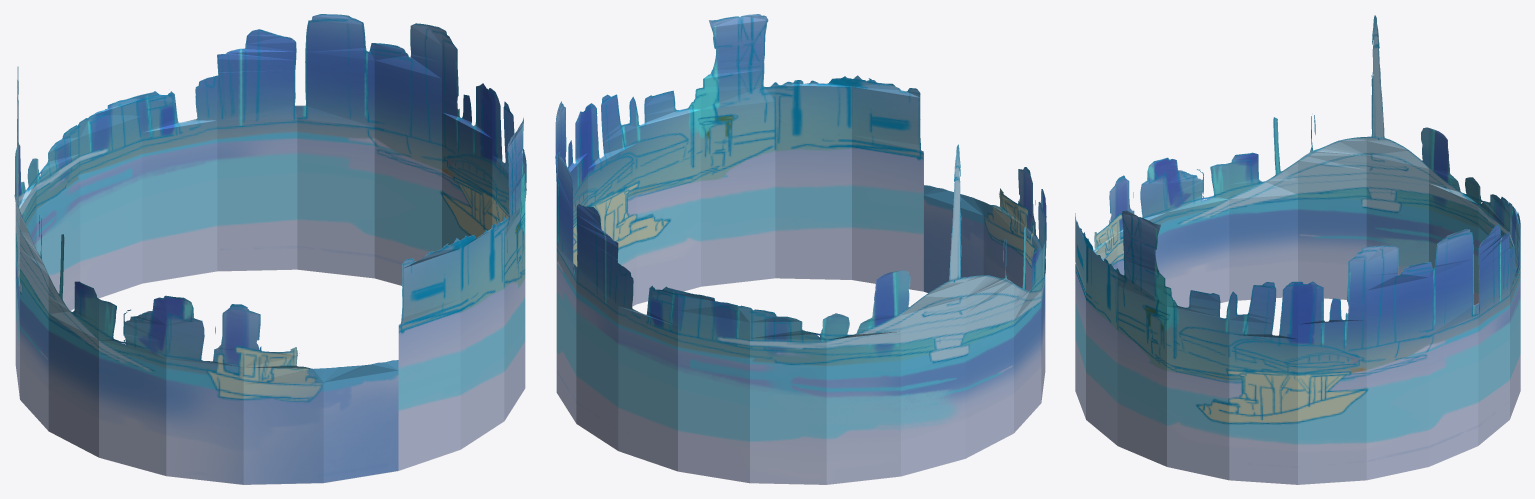
3 renders of one model, left to right at view 1: azimuth 30°, elevation 25°; view 2: azimuth 150°, elevation 25°; view 3: azimuth 270°, elevation 25°, orthographic. The views are drawn at different scales.
Parts seen in each view (by area): view 1: mask17; view 2: mask17; view 3: mask17.
Boxes of the visible parts, <box> form: mask17: <box>14,14,526,484</box>; mask17: <box>555,14,1046,484</box>; mask17: <box>1075,15,1520,484</box>.
Size of the model in its own units: 31.83 by 22.74 by 31.83.
1 material, 1 textured.
